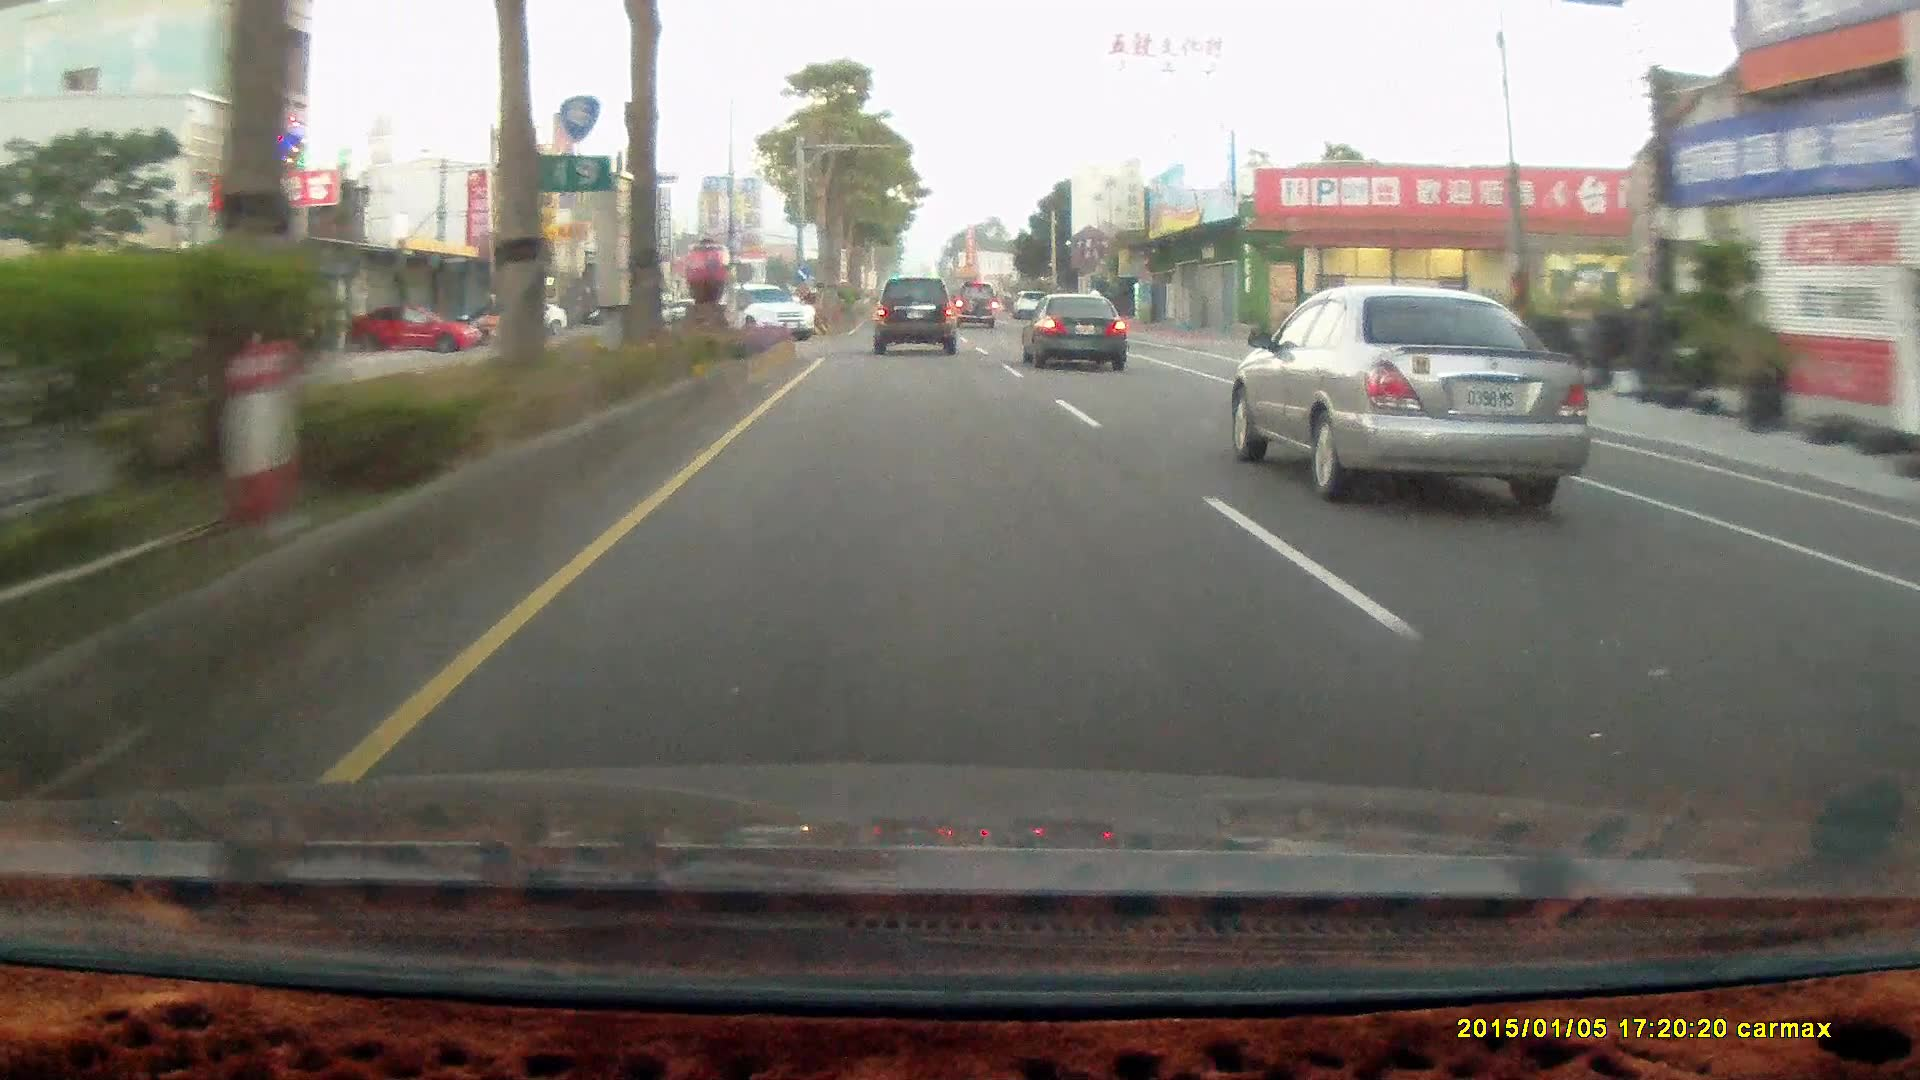vehicle: (1238, 284, 1586, 502), (1018, 291, 1130, 376), (1018, 293, 1125, 371), (339, 305, 487, 356), (874, 276, 963, 360), (342, 302, 476, 353), (872, 278, 953, 356), (727, 284, 816, 344), (735, 284, 816, 343), (949, 282, 998, 332), (949, 282, 998, 331)
